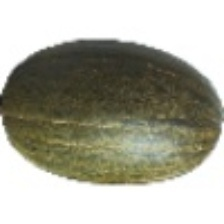honeydew: (37, 45, 217, 206)
